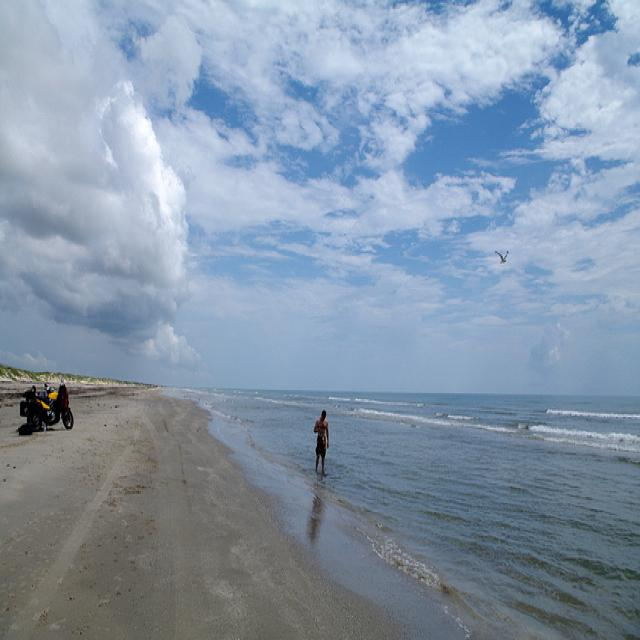motor: (20, 377, 74, 433)
